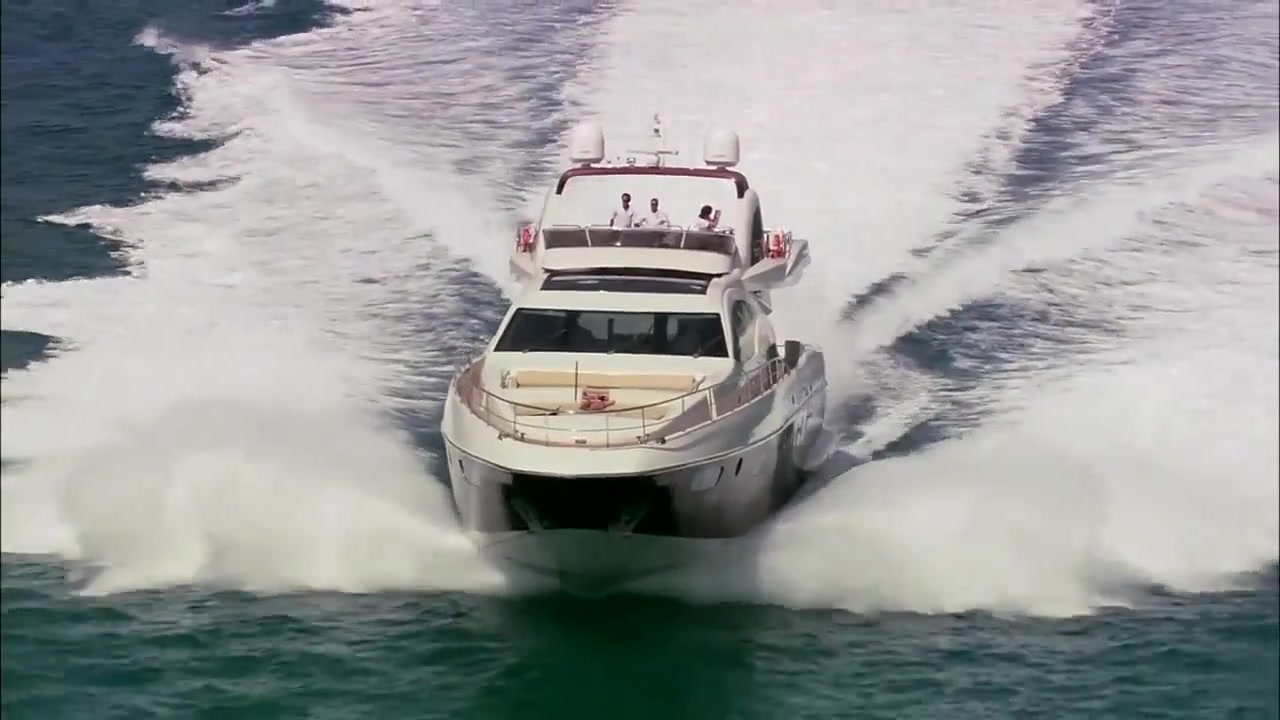boat: (433, 113, 834, 598)
